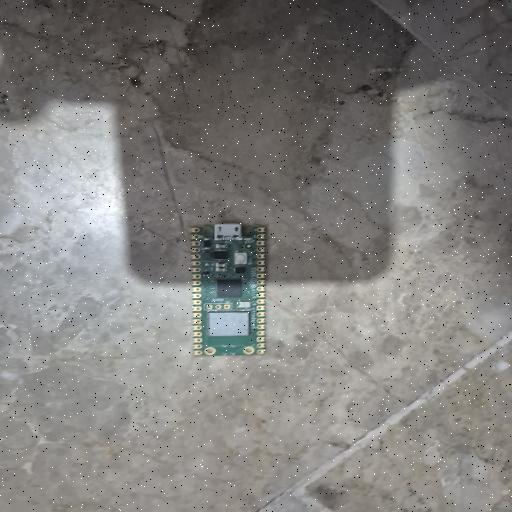raspberry-pi-pico-w: (190, 223, 268, 356)
